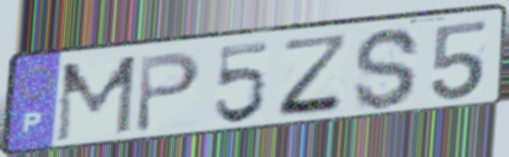5: (427, 17, 490, 103), (211, 39, 271, 128)
M: (52, 52, 140, 146)
P: (132, 49, 204, 136)
S: (351, 25, 424, 113)
Z: (275, 31, 354, 120)
